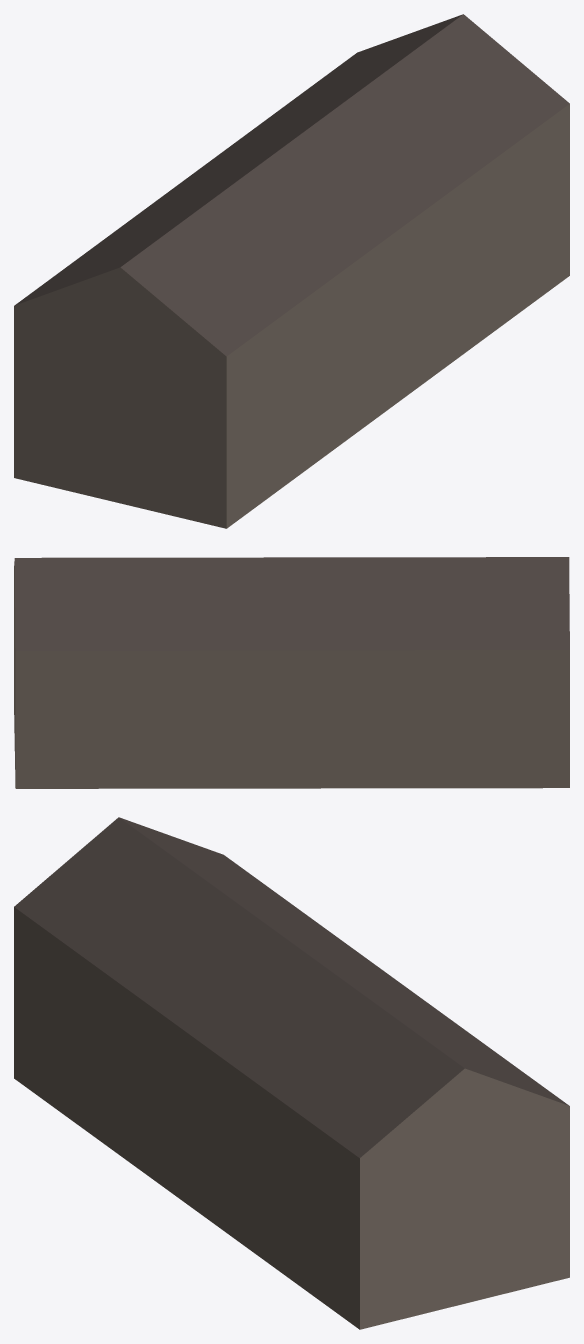
The picture shows the model from 3 angles, top to bottom: view 1: azimuth 30°, elevation 25°; view 2: azimuth 150°, elevation 25°; view 3: azimuth 270°, elevation 25°; orthographic projection. The views are drawn at different scales.
Visible parts, largest first — view 1: HP-w389701945; view 2: HP-w389701945; view 3: HP-w389701945.
Part boxes in pixels (bbox=[...]): HP-w389701945: bbox=[14, 14, 569, 528]; HP-w389701945: bbox=[14, 557, 569, 788]; HP-w389701945: bbox=[14, 817, 569, 1329].
Size of the model in its own units: 22.77 by 8.23 by 17.63.
